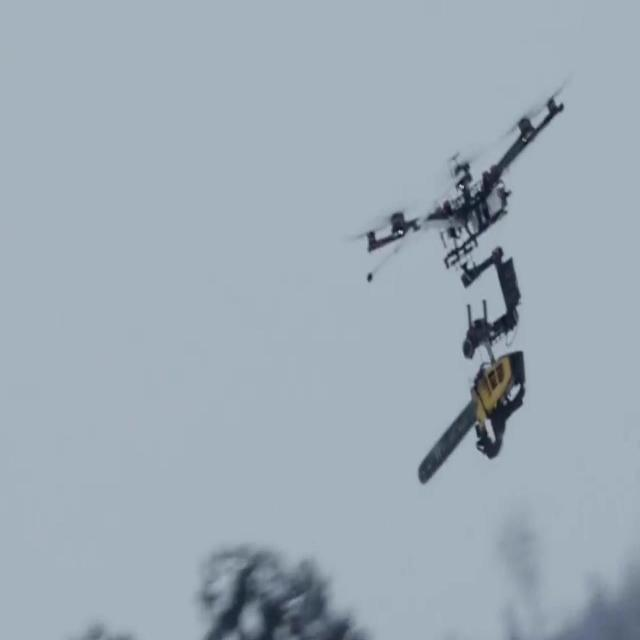UAV: (350, 77, 565, 283)
